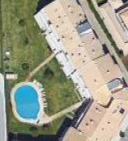pool: (15, 86, 38, 119)
